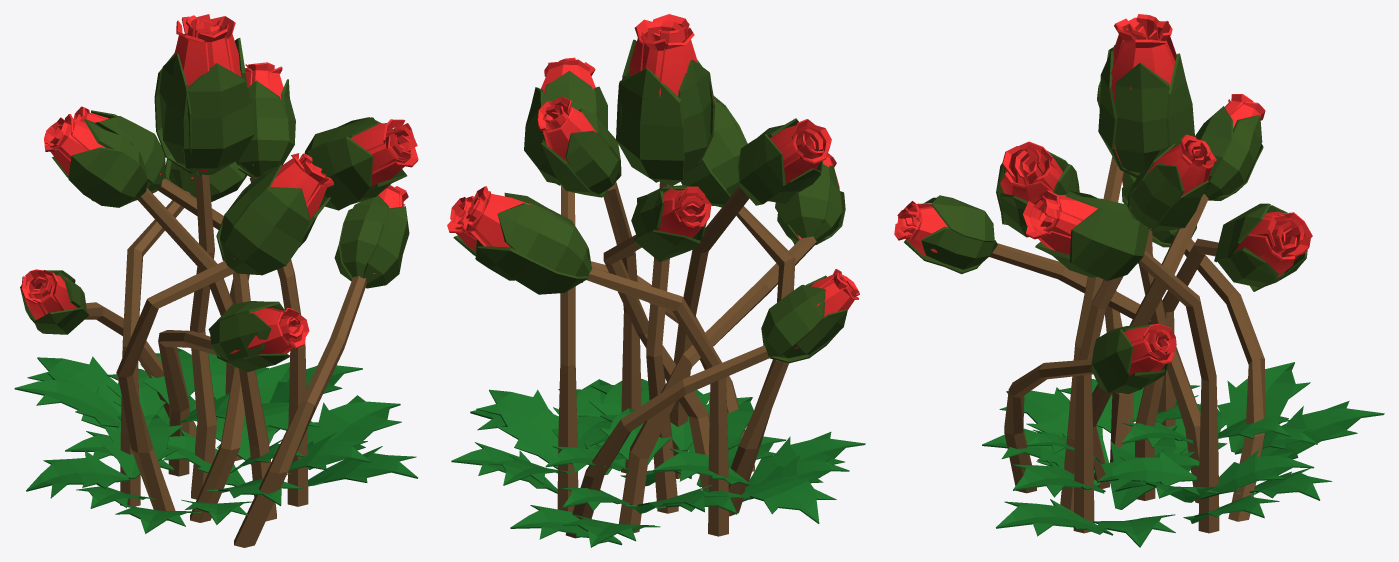
Rendered from Rose_2.fbx.
The picture shows the model from 3 angles, left to right: view 1: azimuth 30°, elevation 25°; view 2: azimuth 150°, elevation 25°; view 3: azimuth 270°, elevation 25°; orthographic projection.
Parts seen in each view (by area): view 1: Rose_3; view 2: Rose_3; view 3: Rose_3.
Boxes of the visible parts, <box> form: Rose_3: <box>14,14,418,547</box>; Rose_3: <box>447,14,865,547</box>; Rose_3: <box>894,14,1384,547</box>.
Size of the model in its own units: 80.99 by 93.89 by 87.83.
